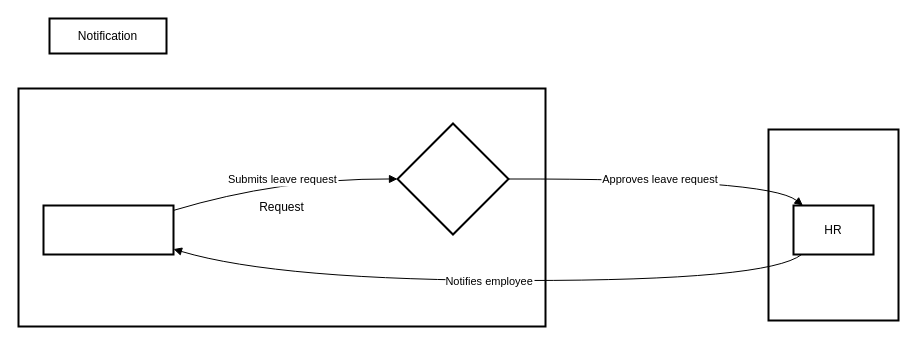
Image size: 916x344. Some labels were removed from this diagram. The centre of each missing label's shape, as x and y in pixels:
"Employee" belongs at (x=108, y=229).
"Manager" belongs at (x=452, y=178).
